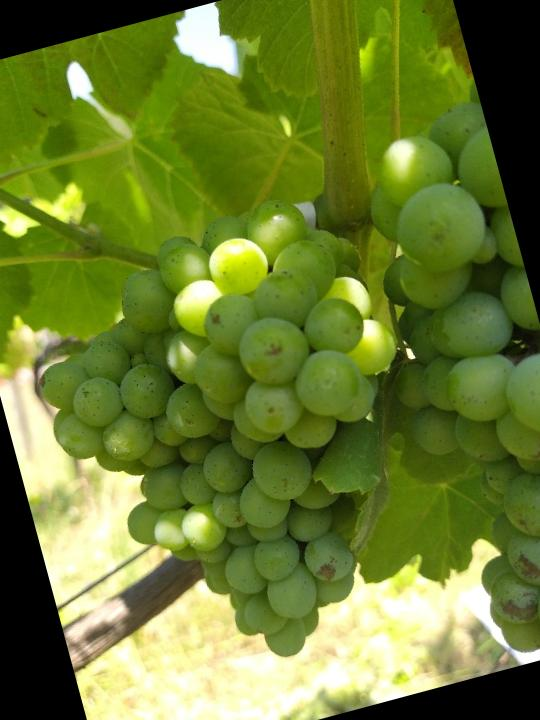grape: (11, 179, 467, 701)
